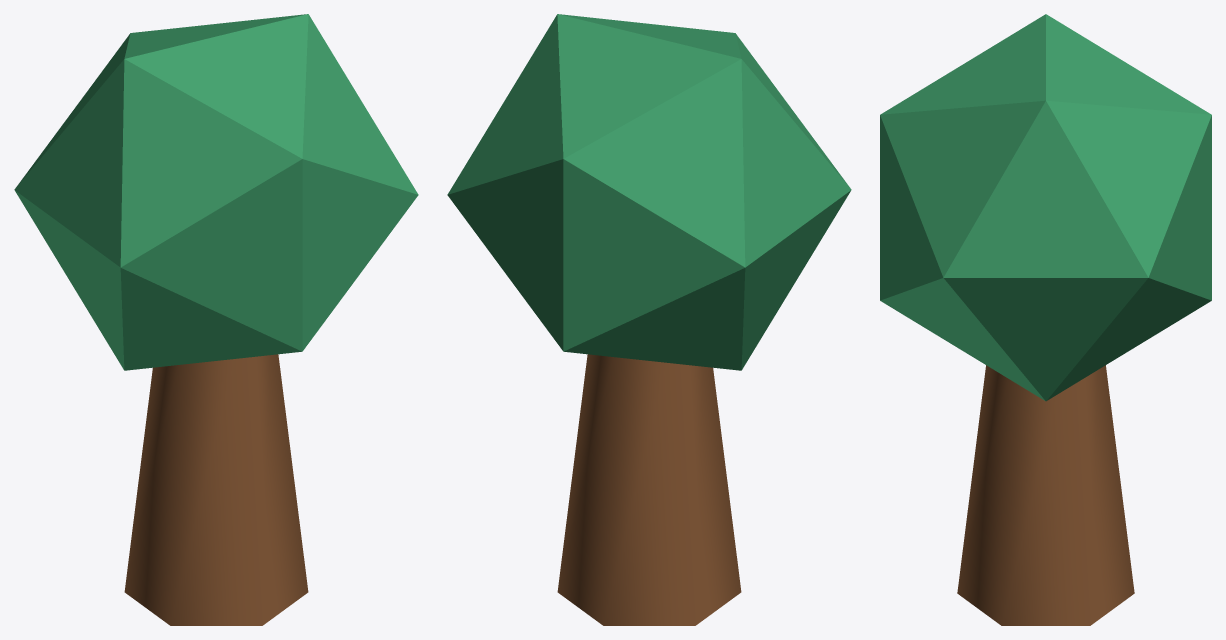
Rendered from tree.glb.
The picture shows the model from 3 angles, left to right: view 1: azimuth 30°, elevation 25°; view 2: azimuth 150°, elevation 25°; view 3: azimuth 270°, elevation 25°; orthographic projection. The views are drawn at different scales.
Visible parts, largest first — view 1: Tree; view 2: Tree; view 3: Tree.
Boxes of the visible parts, x1=… form: Tree: x1=14, y1=14, x2=418, y2=625; Tree: x1=447, y1=14, x2=851, y2=625; Tree: x1=880, y1=14, x2=1211, y2=625.
Bounding box in the file's own units: 0.3743 × 0.6671 × 0.3743.
